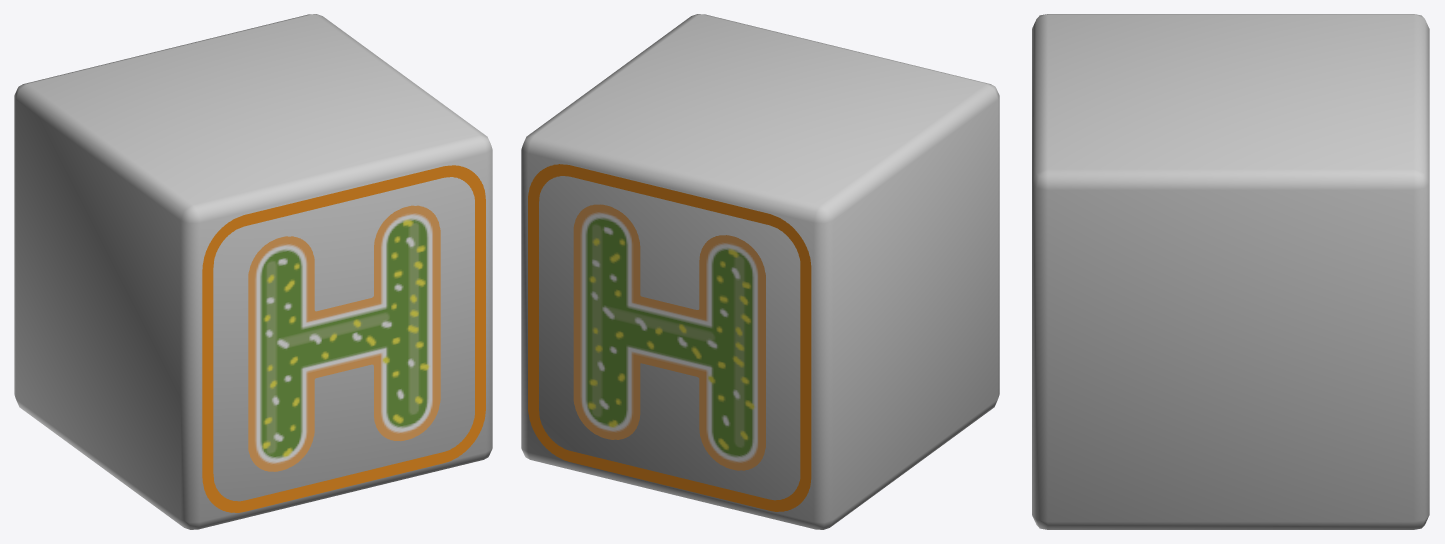
Rendered from Child_Cube_H.FBX.
3 views of the same model, side by side, from view 1: azimuth 30°, elevation 25°; view 2: azimuth 150°, elevation 25°; view 3: azimuth 270°, elevation 25° (orthographic). The views are drawn at different scales.
Parts seen in each view (by area): view 1: Child_Cube_H; view 2: Child_Cube_H; view 3: Child_Cube_H.
Part boxes in pixels (x1,y1,x2,y2): Child_Cube_H: (14, 14, 492, 529); Child_Cube_H: (521, 14, 999, 529); Child_Cube_H: (1032, 14, 1429, 529).
Bounding box in the file's own units: 0.2122 × 0.2122 × 0.2149.
